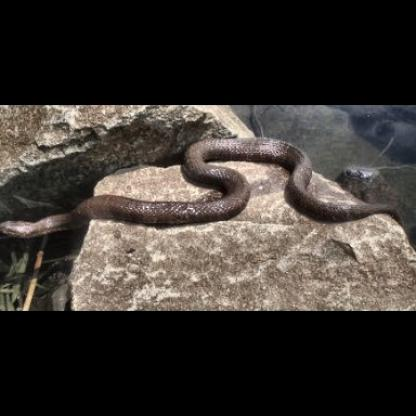Snake: (11, 106, 413, 254)
